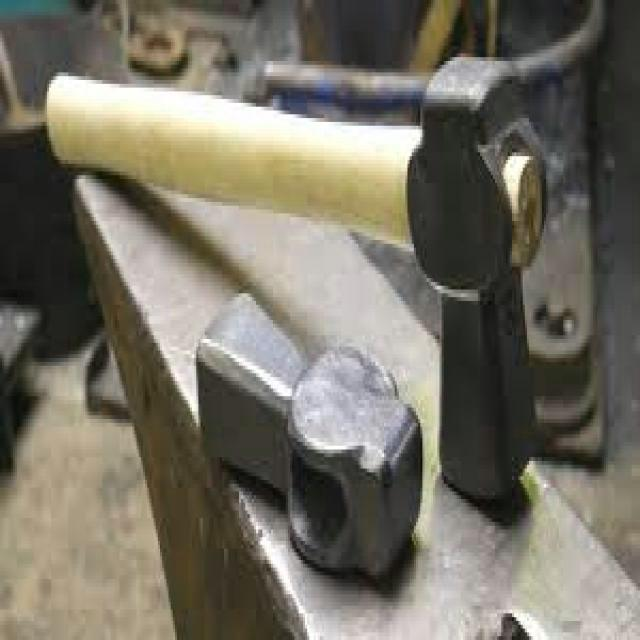hammer: (36, 46, 548, 518)
